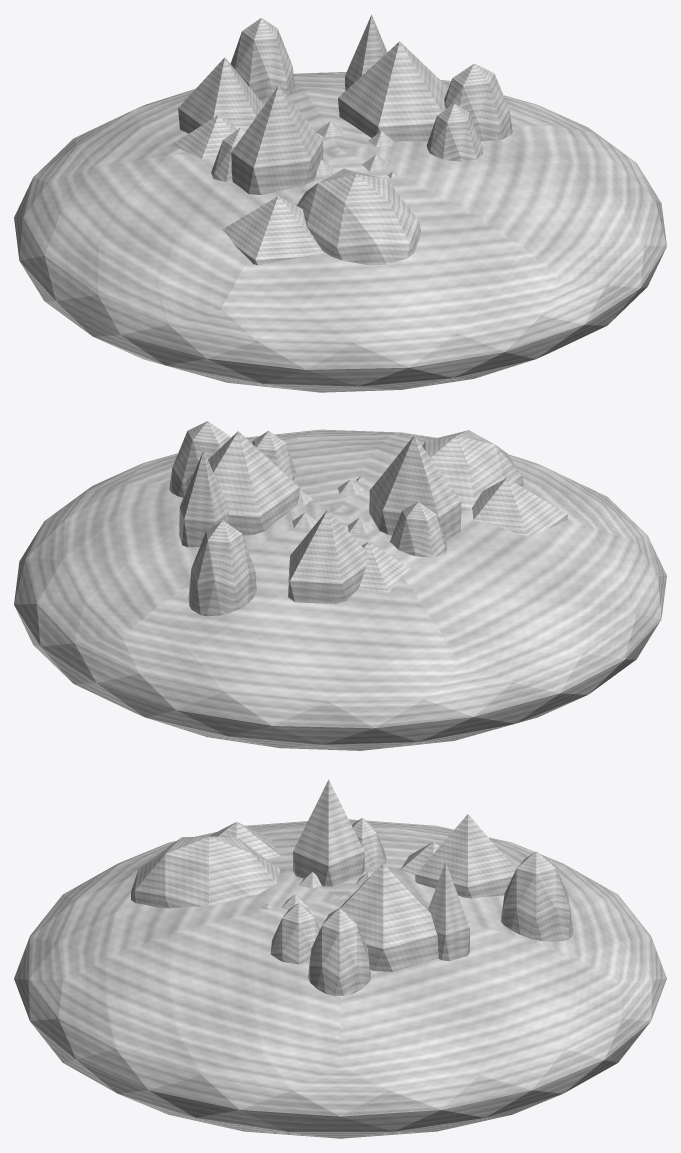
File: coal_node_variant_c.glb
3 views of the same model, one above another, from view 1: azimuth 30°, elevation 25°; view 2: azimuth 150°, elevation 25°; view 3: azimuth 270°, elevation 25° (orthographic).
Visible parts, largest first — view 1: Resource node bedrock.002, Exposed ore formation.030, Exposed ore formation.022, Exposed ore formation.028, Exposed ore formation.029, Exposed ore formation.025, Exposed ore formation.024, Exposed ore formation.021, Exposed ore formation.033, Exposed ore formation.026, Exposed ore formation.023, Exposed ore formation.027; view 2: Resource node bedrock.002, Exposed ore formation.022, Exposed ore formation.025, Exposed ore formation.028, Exposed ore formation.024, Exposed ore formation.030, Exposed ore formation.029, Exposed ore formation.023, Exposed ore formation.027, Exposed ore formation.021, Exposed ore formation.026, Exposed ore formation.033; view 3: Resource node bedrock.002, Exposed ore formation.030, Exposed ore formation.022, Exposed ore formation.024, Exposed ore formation.028, Exposed ore formation.025, Exposed ore formation.021, Exposed ore formation.023, Exposed ore formation.033, Exposed ore formation.029, Exposed ore formation.027, Exposed ore formation.026.
Part boxes in pixels (box(x1,y1,x2,y2)): Resource node bedrock.002: box(14, 72, 666, 392); Exposed ore formation.030: box(296, 168, 420, 265); Exposed ore formation.022: box(338, 41, 448, 141); Exposed ore formation.028: box(231, 86, 323, 194); Exposed ore formation.029: box(222, 196, 322, 265); Exposed ore formation.025: box(178, 57, 262, 133); Exposed ore formation.024: box(230, 18, 294, 100); Exposed ore formation.021: box(444, 63, 512, 141); Exposed ore formation.033: box(426, 103, 482, 161); Exposed ore formation.026: box(170, 115, 236, 159); Exposed ore formation.023: box(345, 14, 387, 90); Exposed ore formation.027: box(211, 127, 246, 181); Resource node bedrock.002: box(14, 429, 666, 750); Exposed ore formation.022: box(186, 431, 299, 535); Exposed ore formation.025: box(288, 509, 366, 604); Exposed ore formation.028: box(369, 435, 461, 541); Exposed ore formation.024: box(188, 520, 256, 616); Exposed ore formation.030: box(422, 430, 523, 507); Exposed ore formation.029: box(472, 478, 567, 536); Exposed ore formation.023: box(179, 450, 229, 547); Exposed ore formation.027: box(390, 501, 447, 557); Exposed ore formation.021: box(169, 421, 230, 497); Exposed ore formation.026: box(358, 541, 410, 593); Exposed ore formation.033: box(252, 430, 296, 480); Resource node bedrock.002: box(14, 819, 666, 1138); Exposed ore formation.030: box(130, 836, 279, 908); Exposed ore formation.022: box(340, 863, 438, 971); Exposed ore formation.024: box(501, 851, 573, 941); Exposed ore formation.028: box(293, 779, 364, 886); Exposed ore formation.025: box(415, 814, 515, 898); Exposed ore formation.021: box(308, 908, 370, 996); Exposed ore formation.023: box(428, 862, 469, 961); Exposed ore formation.033: box(270, 903, 319, 964); Exposed ore formation.029: box(208, 822, 280, 859); Exposed ore formation.027: box(352, 818, 386, 869); Exposed ore formation.026: box(400, 841, 440, 874).
Size of what is drawn, in the model's own units: 6.2 by 2.59 by 6.2.
Materials: 2 (2 with a texture image).
